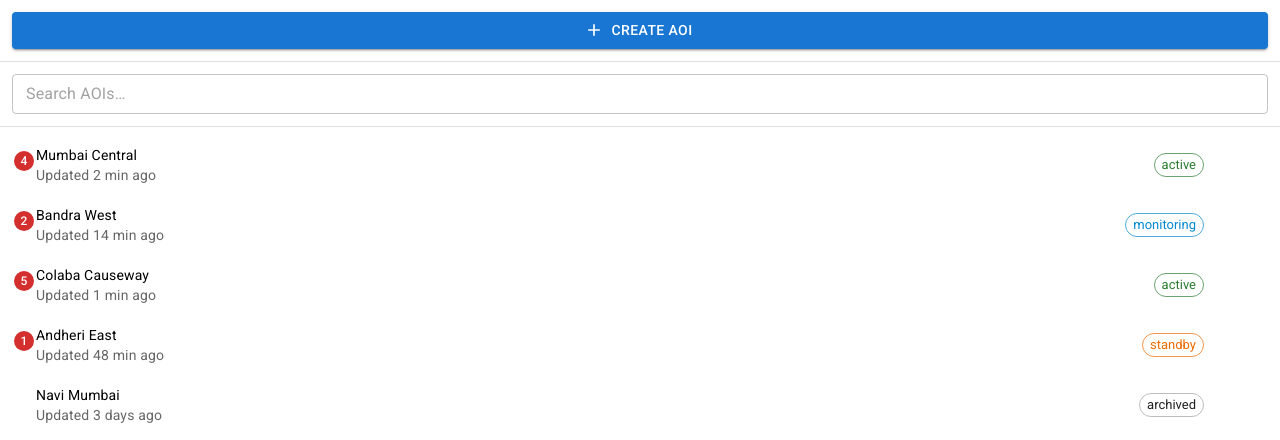
Test: AOISidebar › shows "No AOIs found" when filter returns empty
The image size is (1280, 440).
In the field with placeholder "Search AOIs…": (640, 94) [12,74,1268,114], type "zzz-not-a-real-aoi"
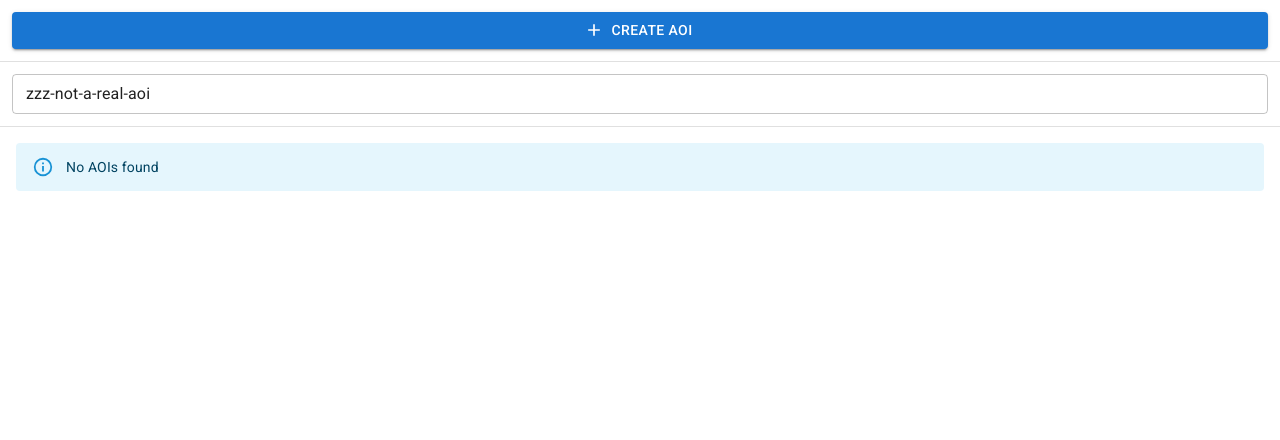
Expected: the text "No AOIs found" is shown, [66,158,159,174]
